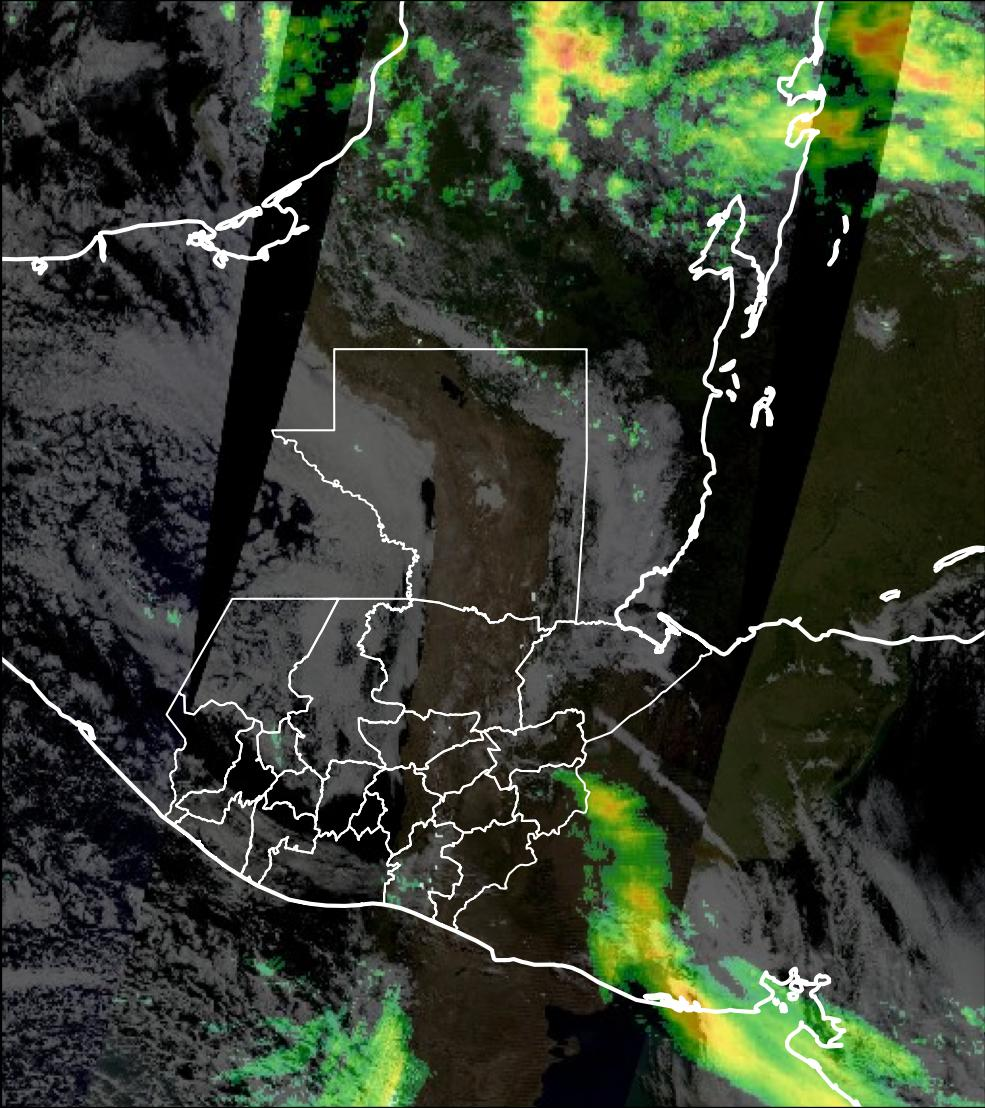precipitacion: (518, 9, 632, 97)
